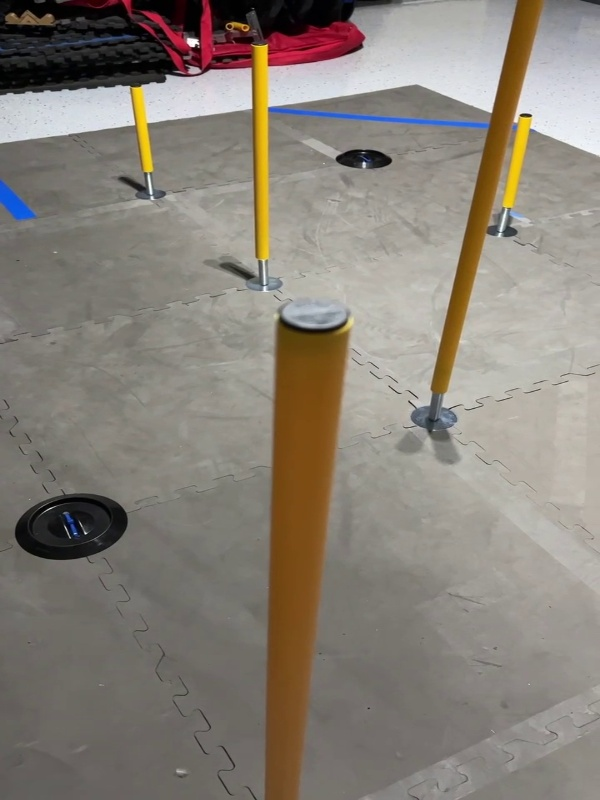top: (273, 292, 355, 339)
